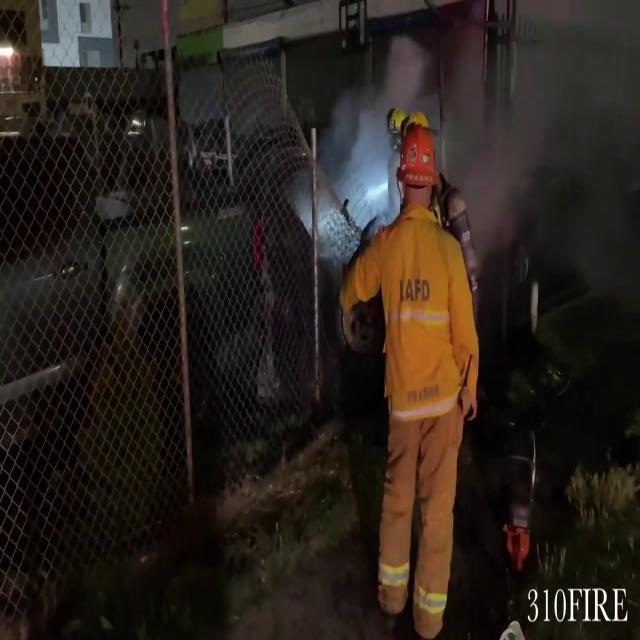Smoke: (332, 3, 638, 259)
